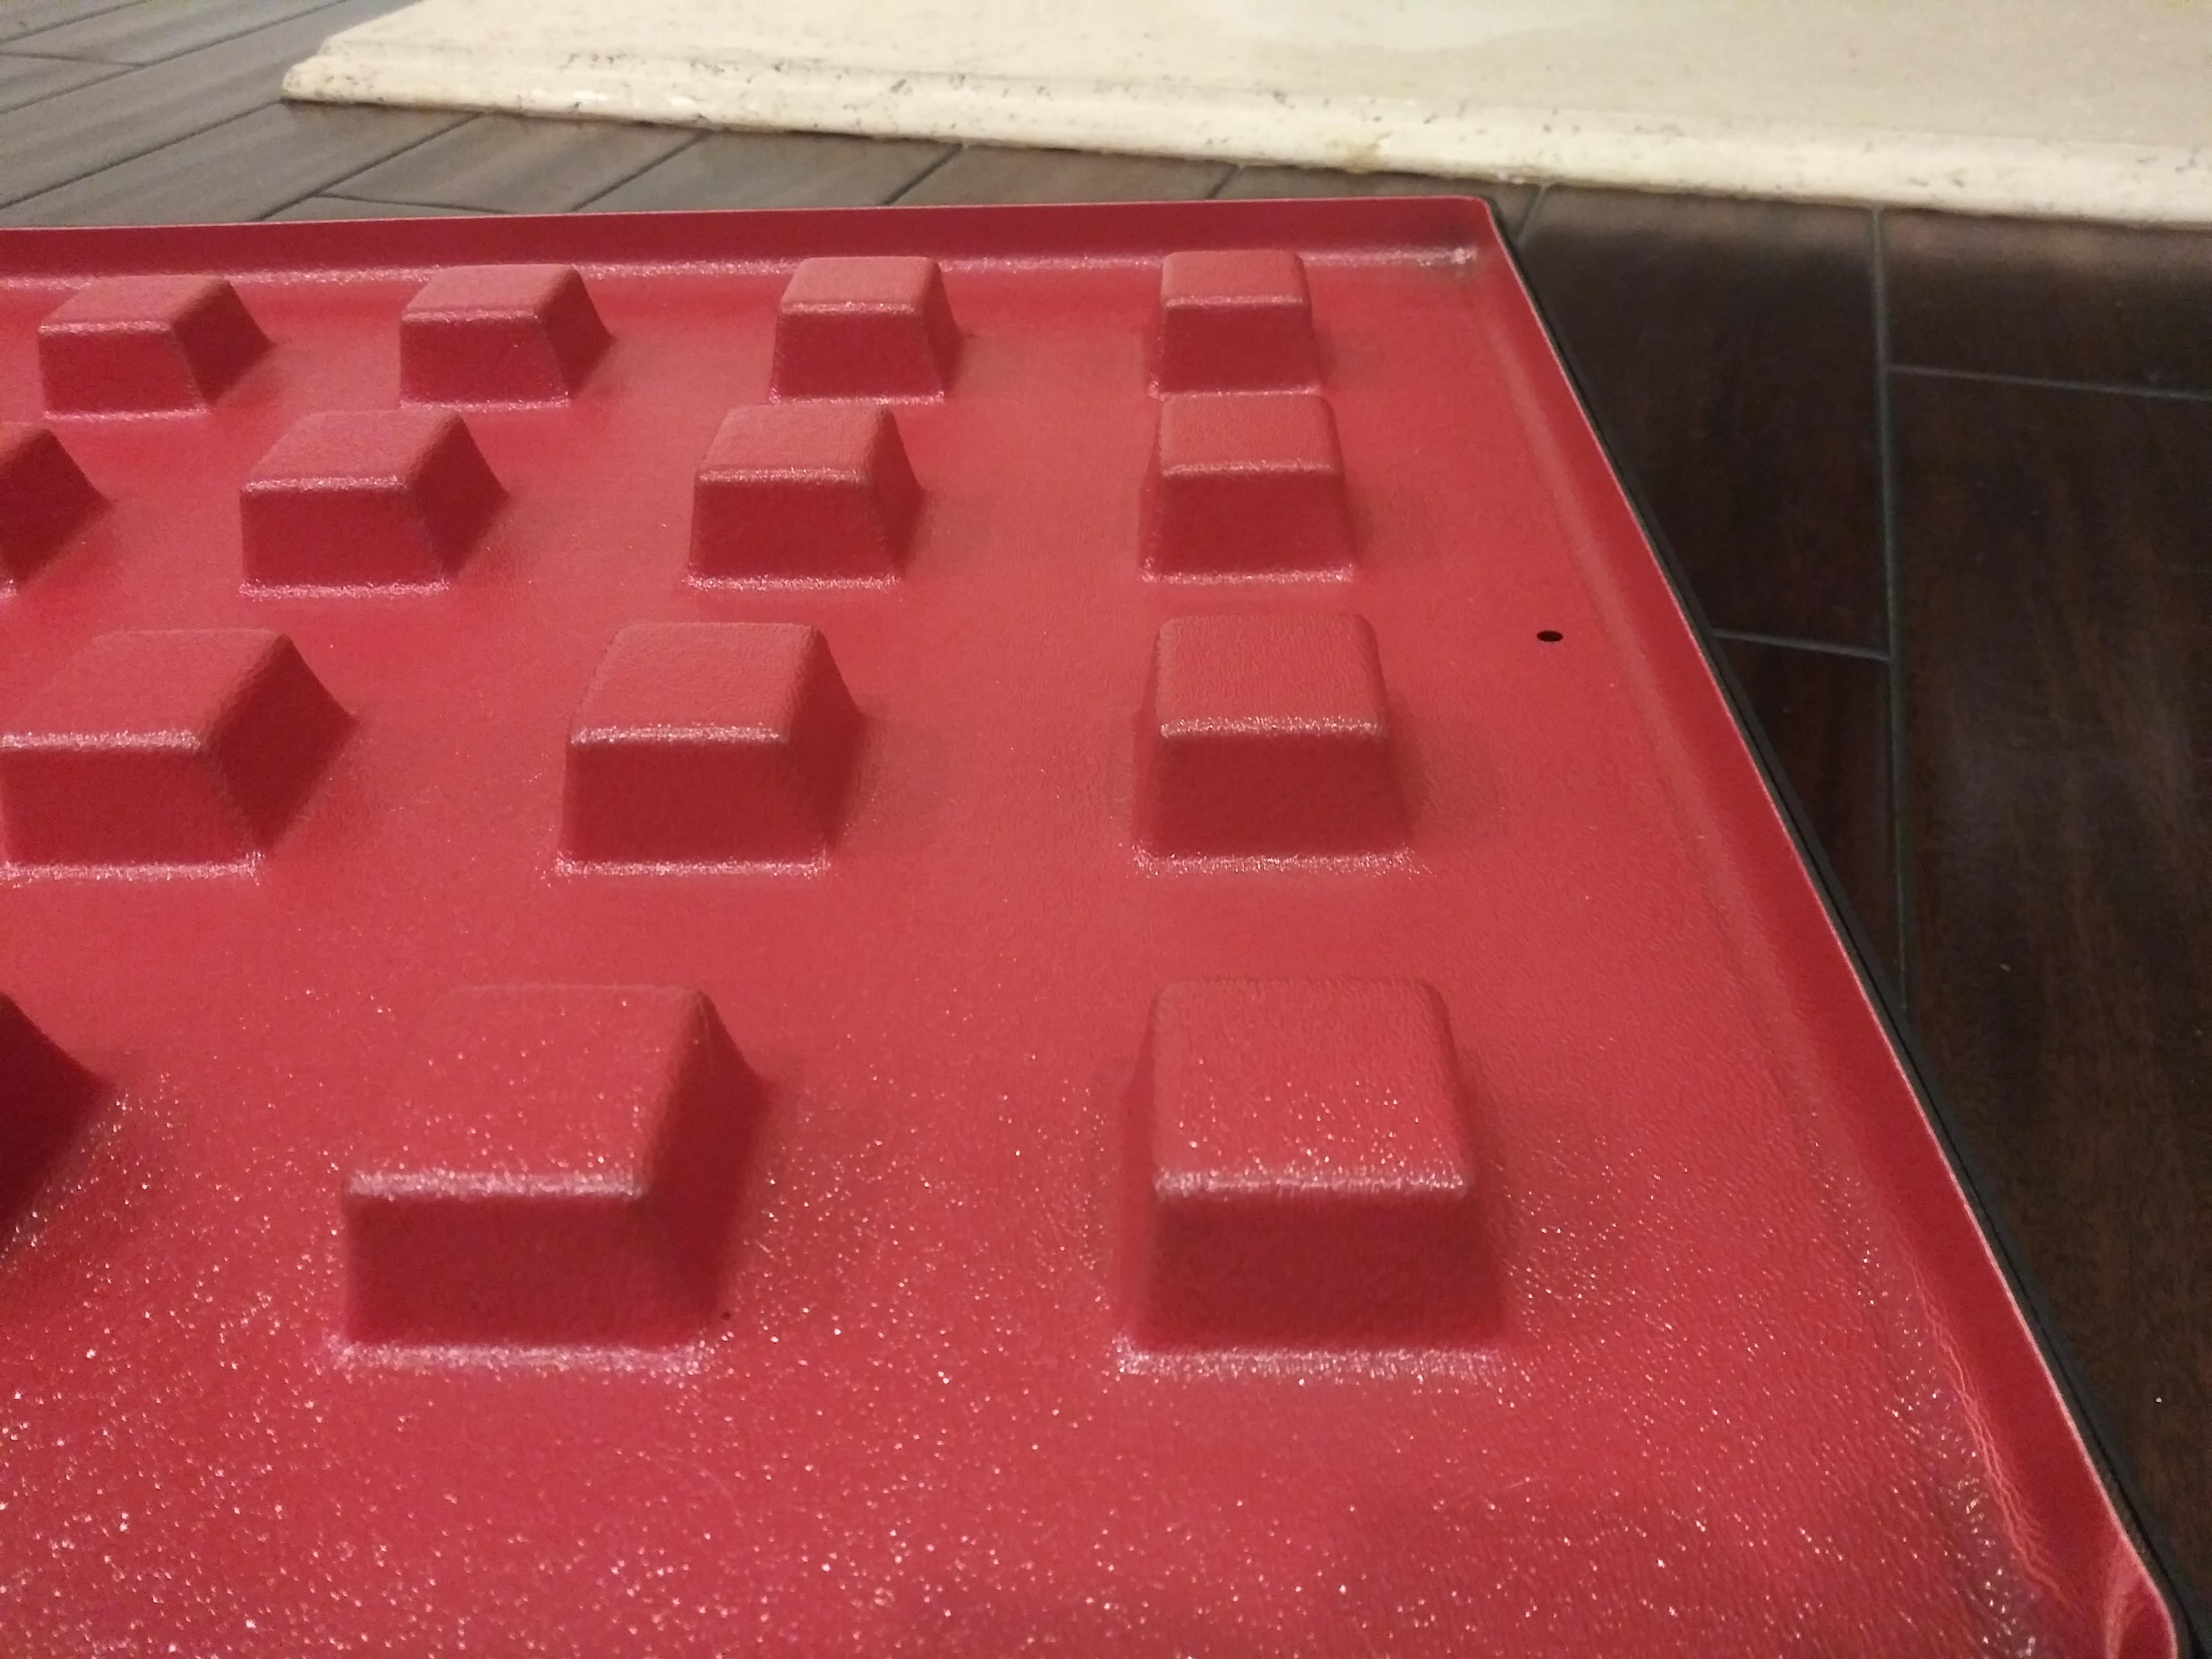red foundation: (30, 197, 2193, 1640)
